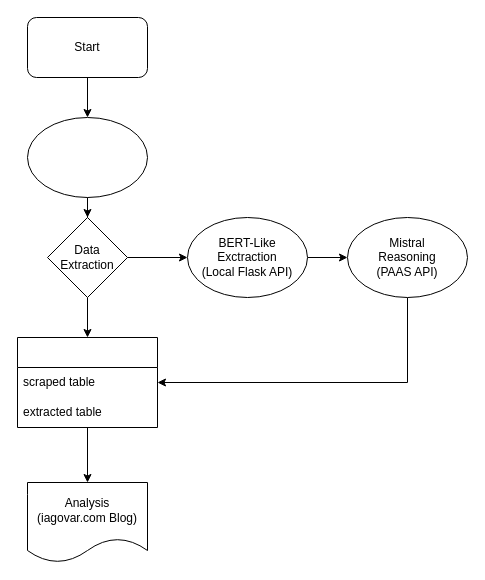
Image size: 485x580. Some labels were removed from this diagram. Each missing label, with the box of its shape:
Database Storage: (16, 336, 158, 428)
Scrape Job Listings (Puppeteer): (26, 116, 148, 198)
